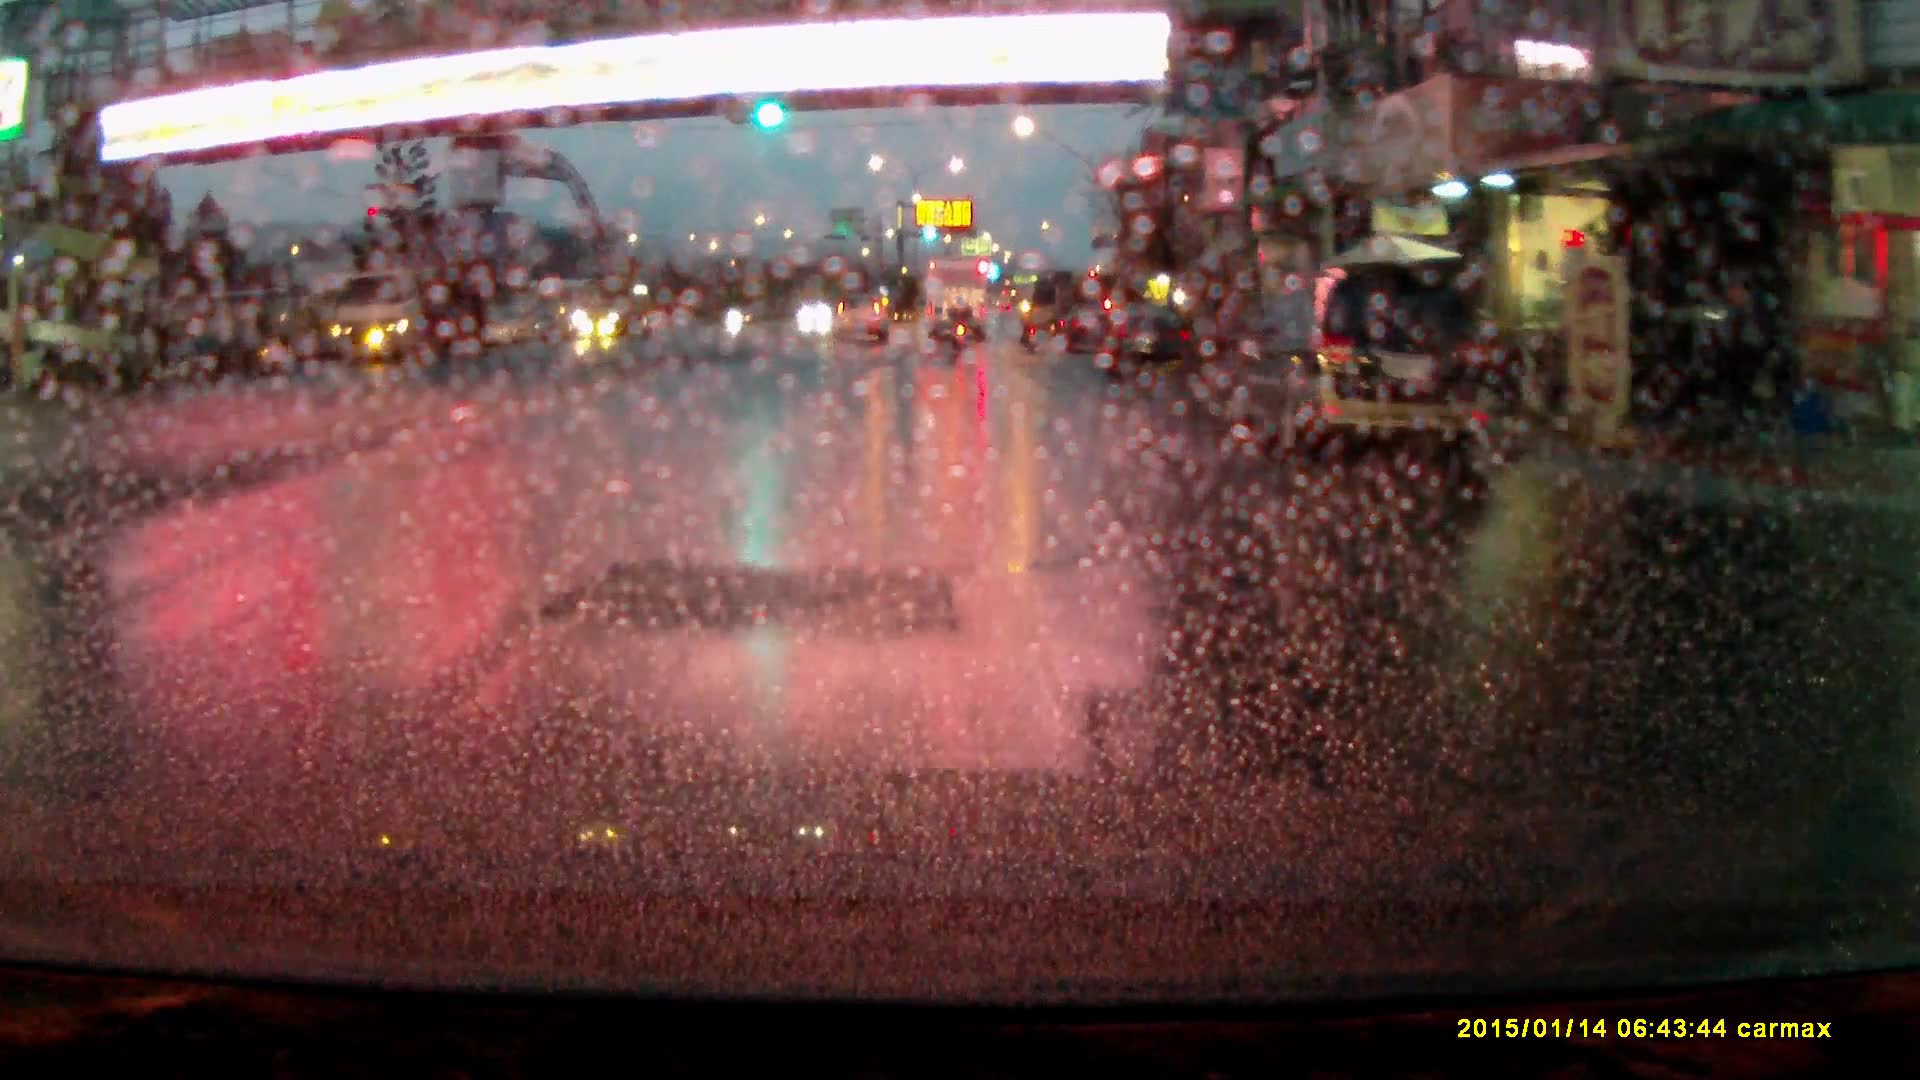rider: (948, 296, 974, 355)
vehicle: (1225, 268, 1499, 469), (1635, 291, 1778, 430), (323, 271, 481, 373), (1102, 308, 1196, 382), (571, 288, 662, 347), (923, 265, 992, 343), (1063, 308, 1122, 361), (834, 285, 892, 333)
